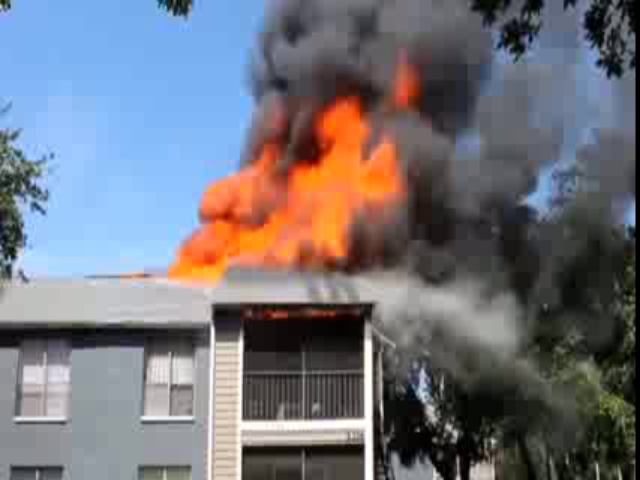fire: (186, 102, 395, 273)
